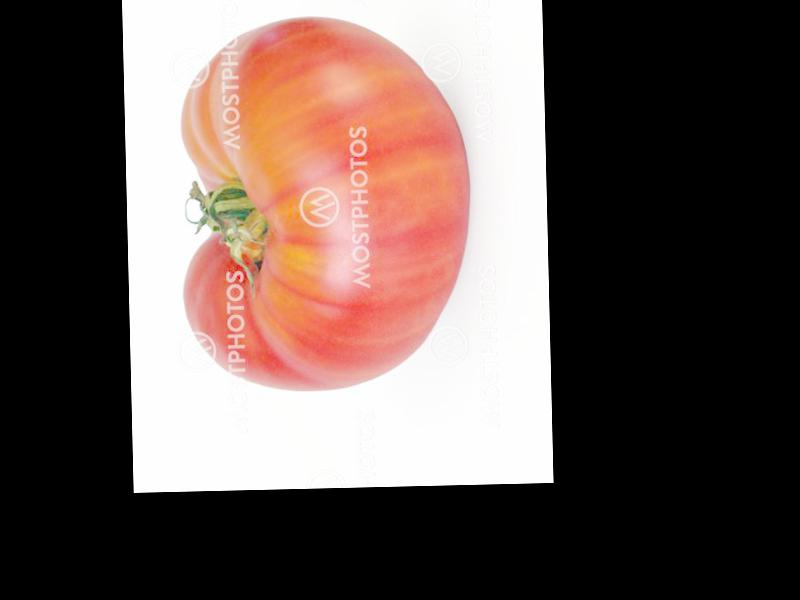Tomato: (176, 13, 472, 392)
